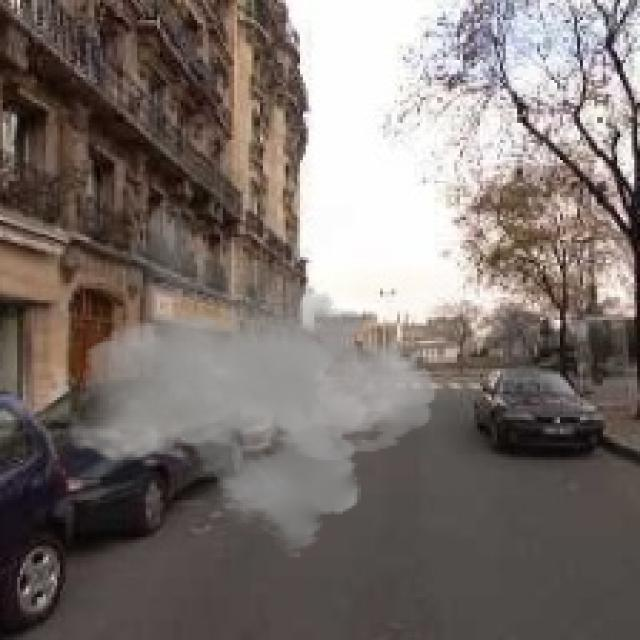Smoke: (66, 197, 437, 560)
